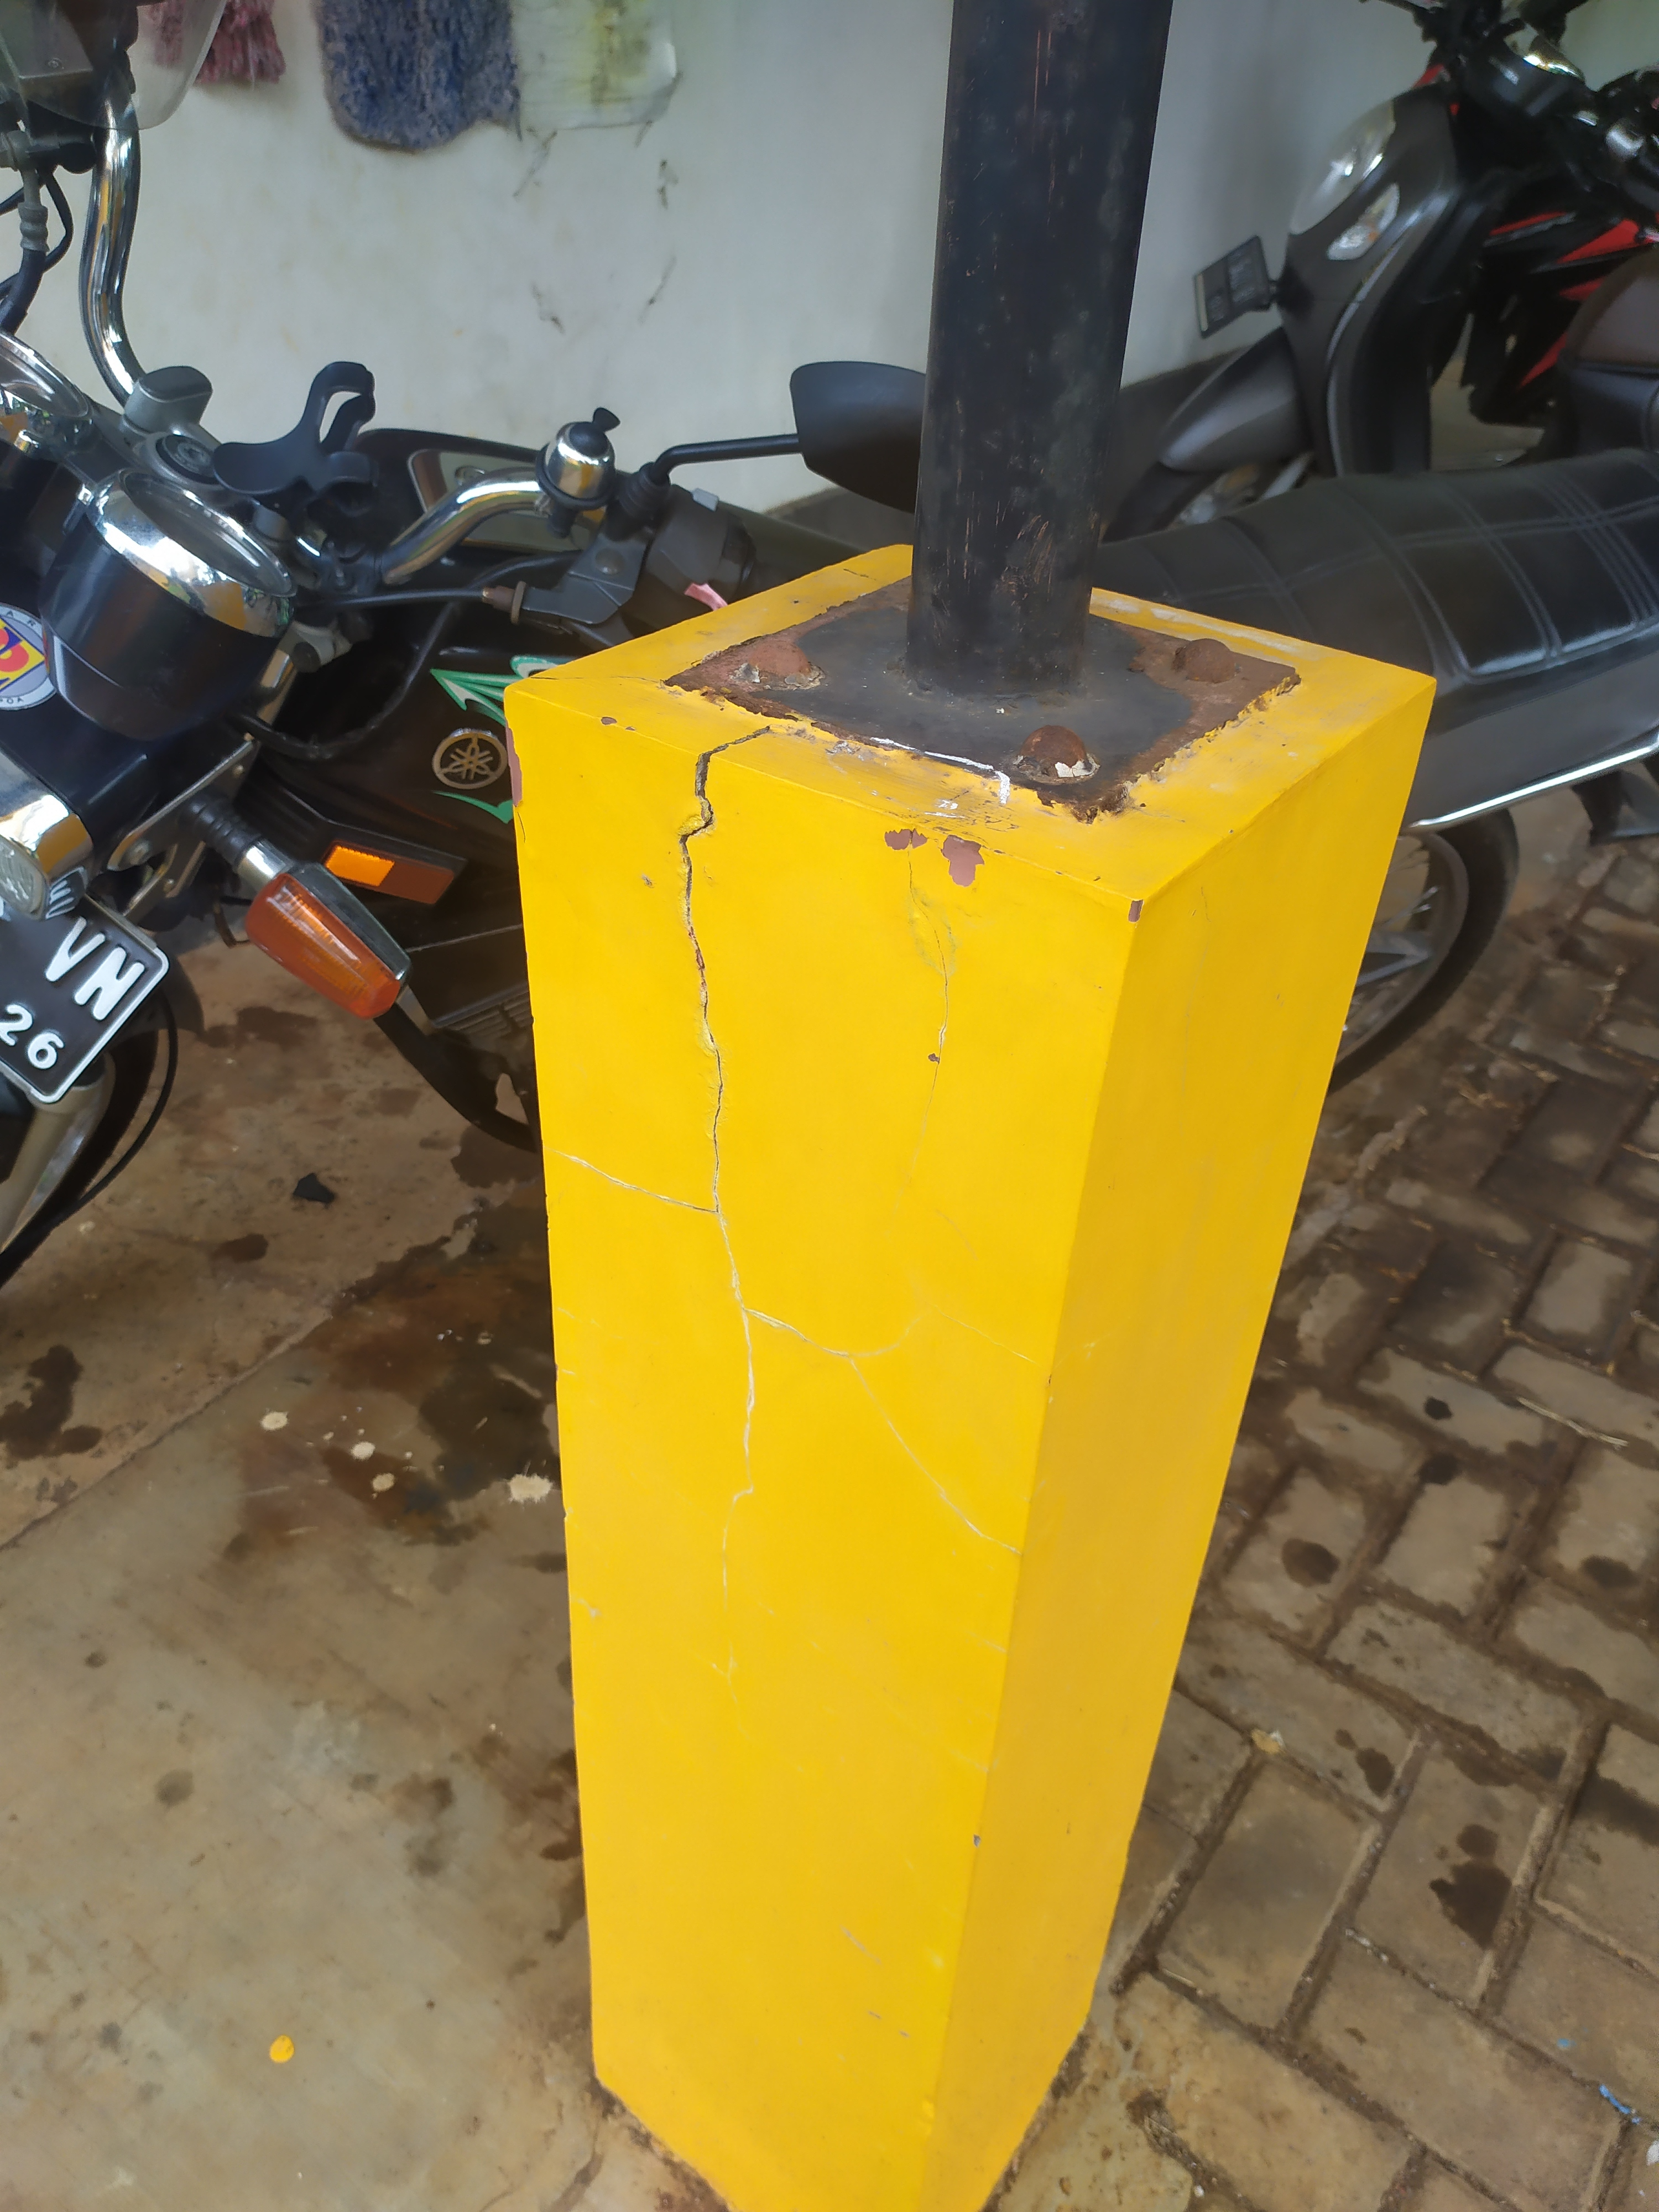concrete column: (490, 507, 1457, 2212)
crack: (660, 711, 854, 1341)
